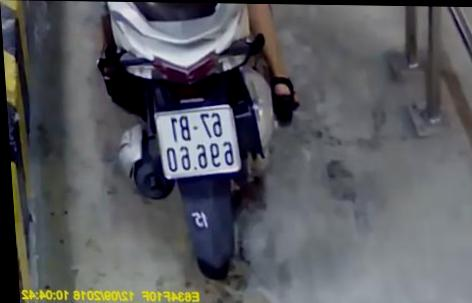License_Plate: (149, 97, 251, 196)
